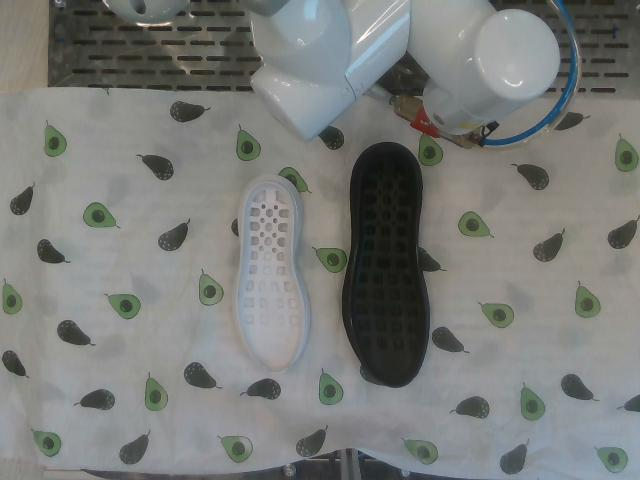shoes: (350, 151, 426, 386), (238, 182, 304, 372)
